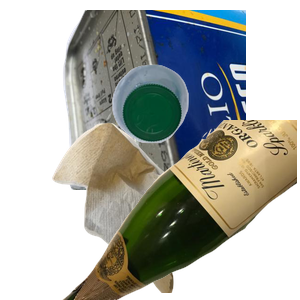glass: (60, 120, 300, 300)
metal: (60, 10, 300, 190)
plastic: (110, 62, 300, 198)
trash: (50, 120, 219, 300)
